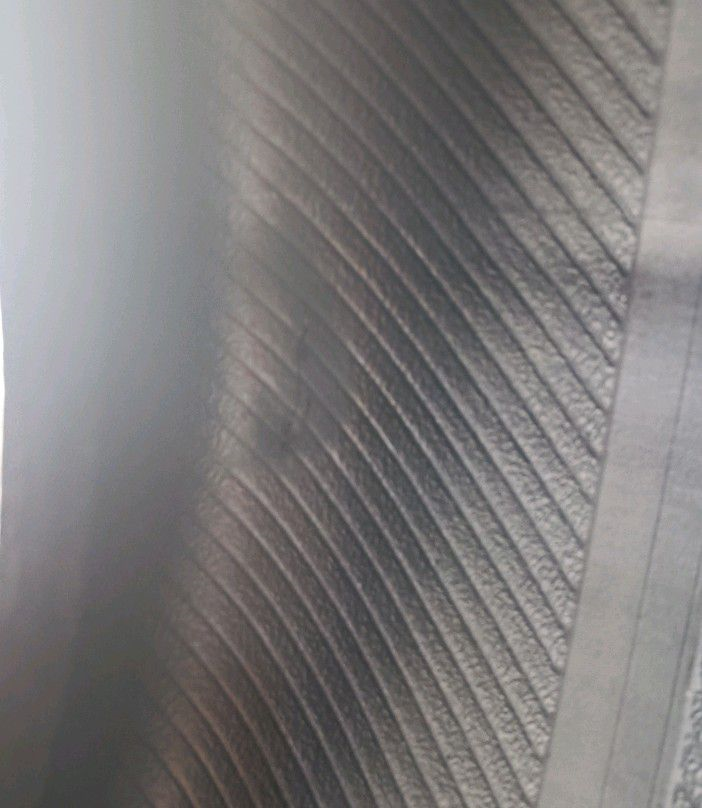CBU: (249, 301, 347, 469)
